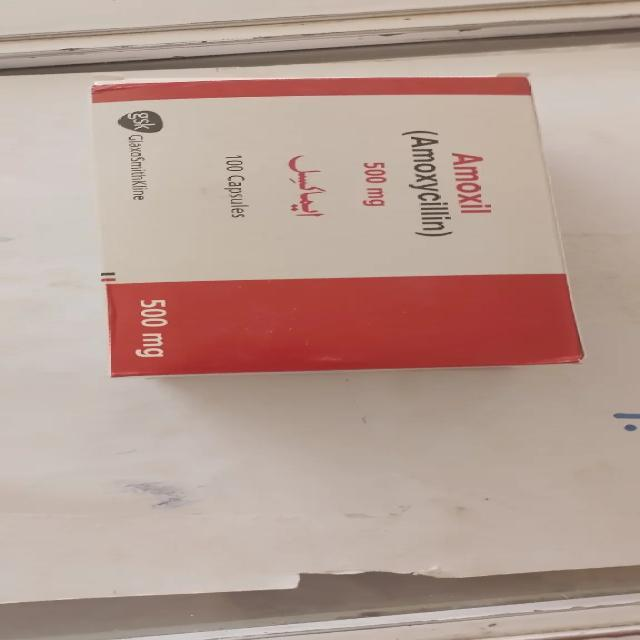drug-name: (448, 150, 493, 216)
